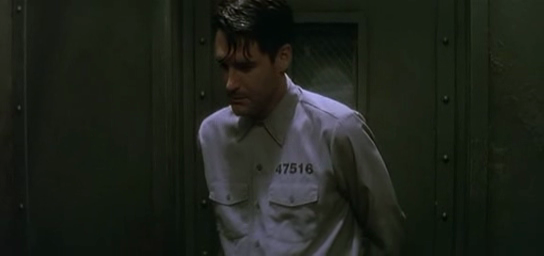face: (215, 44, 268, 115)
ms: (1, 1, 544, 256)
person: (196, 1, 410, 256)
